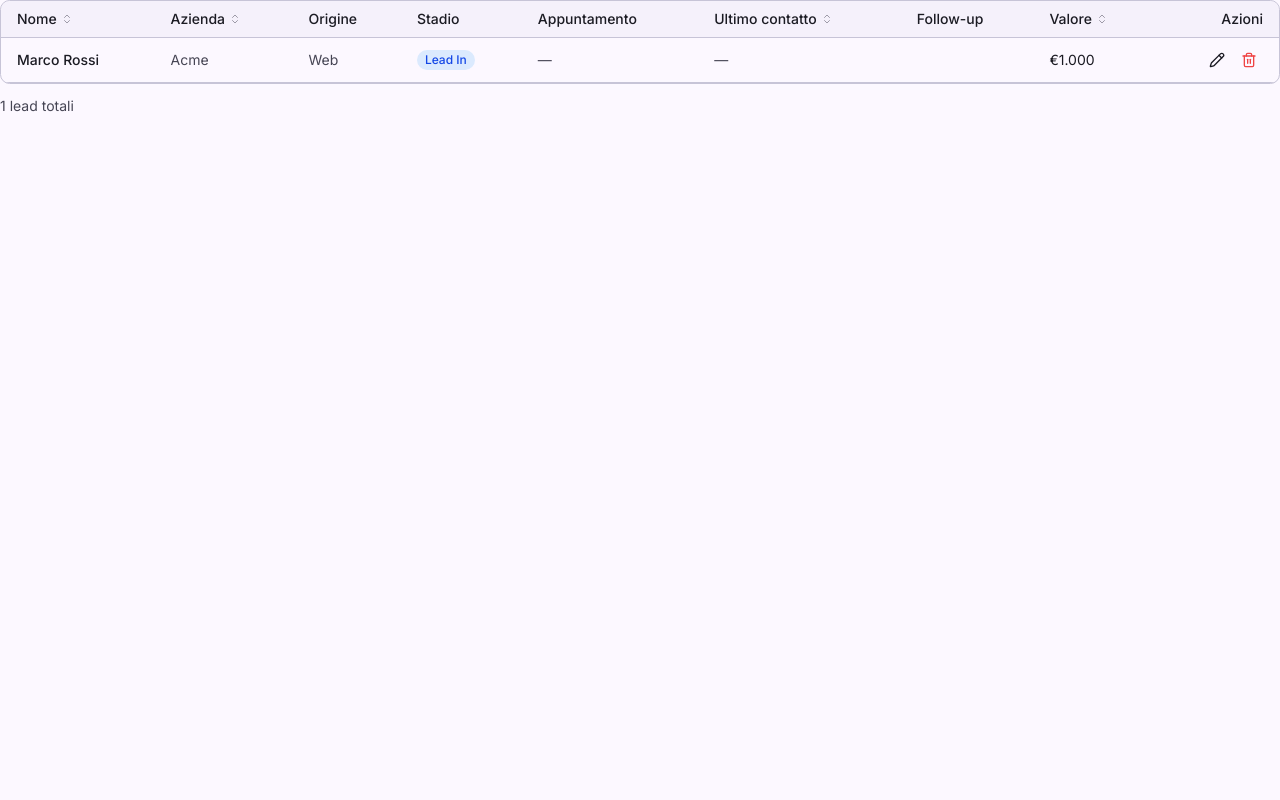
Test: LeadTable actions › clicking delete opens the confirm dialog
Click the button named "Elimina lead": (1249, 60) [1235,46,1263,74]
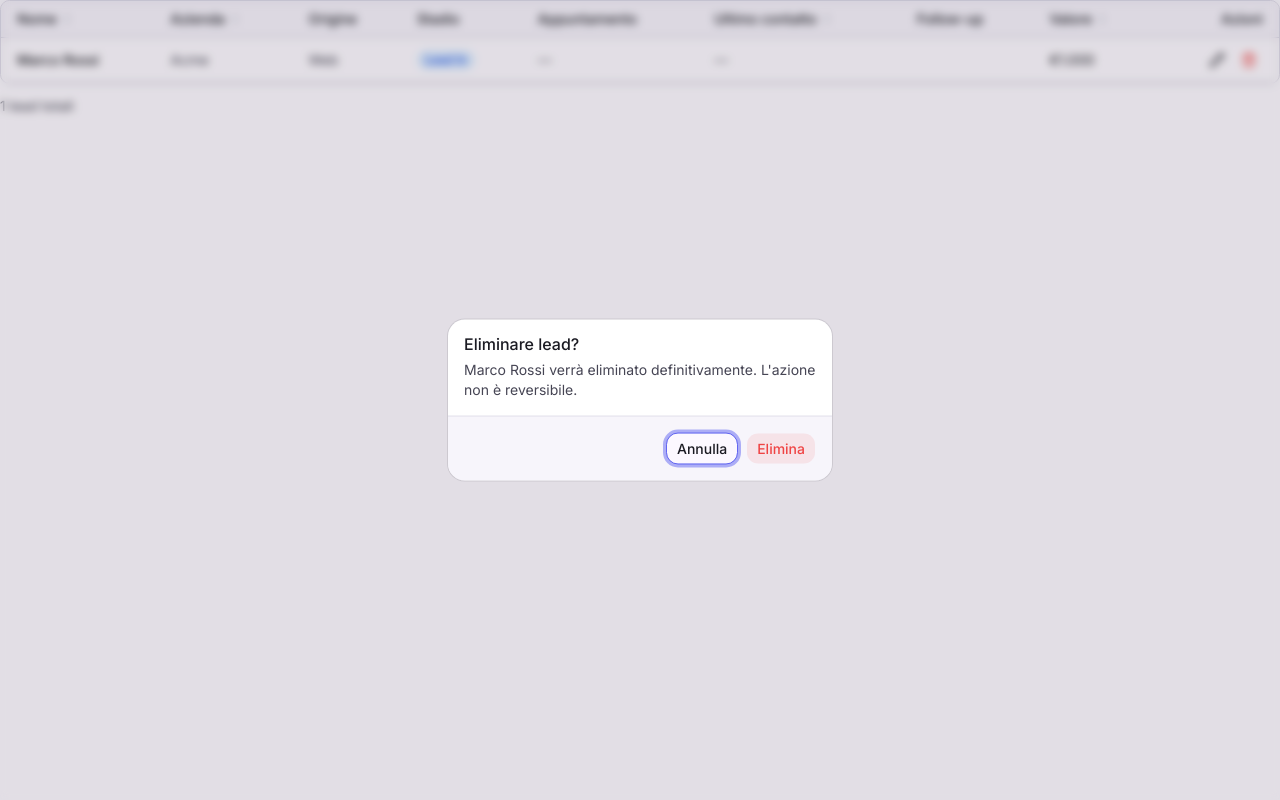
Expected: the heading "Eliminare lead?" is shown, [464,334,579,354]
